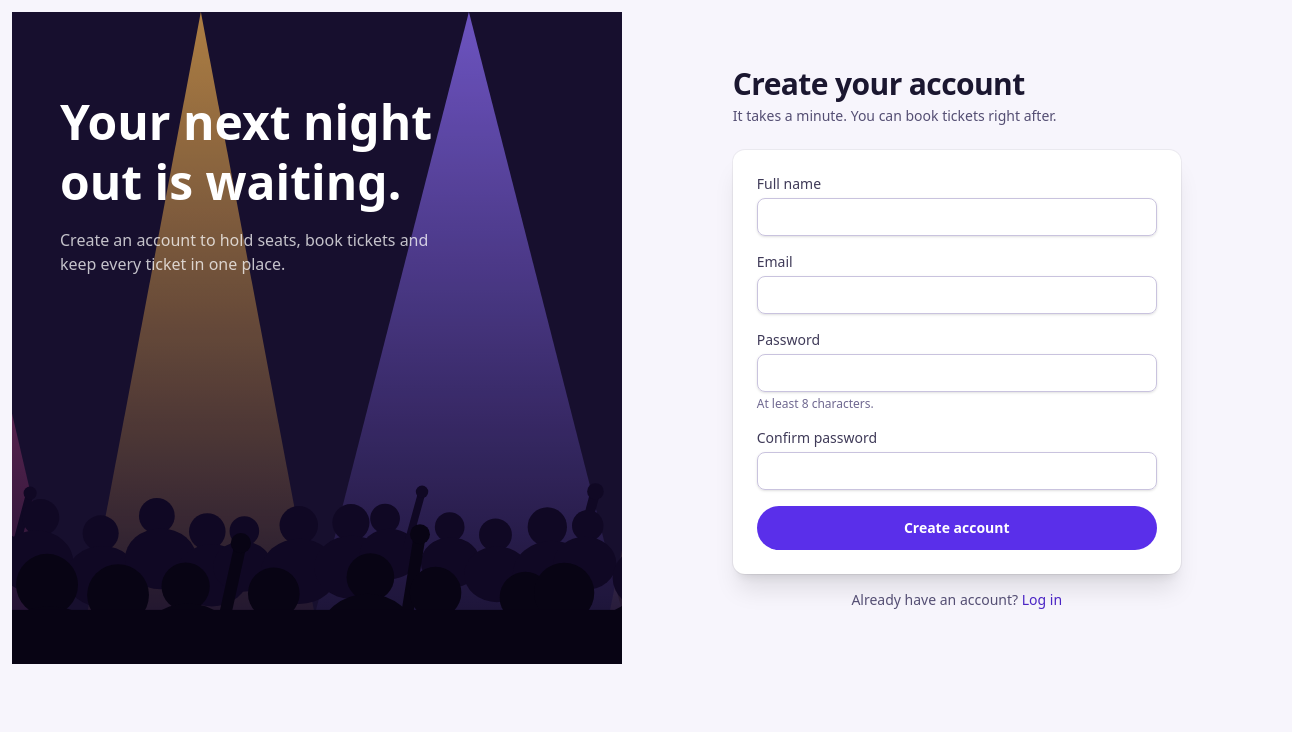
it: RegisterPage › catches passwords that do not match
Type " Ana Rao " into the field labelled "Full name" at (957, 217), box [757,198,1157,236]
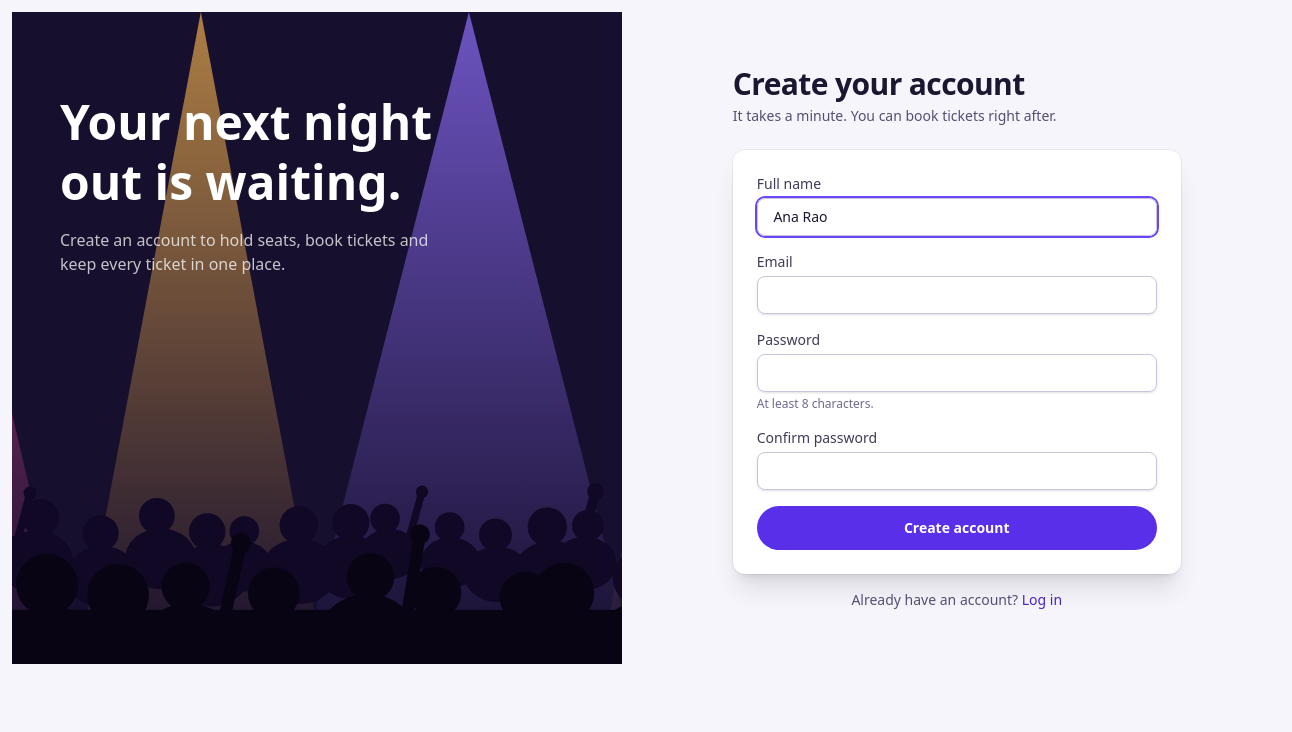
Type " ana@example.com " into the field labelled "Email" at (957, 295), box [757,276,1157,314]
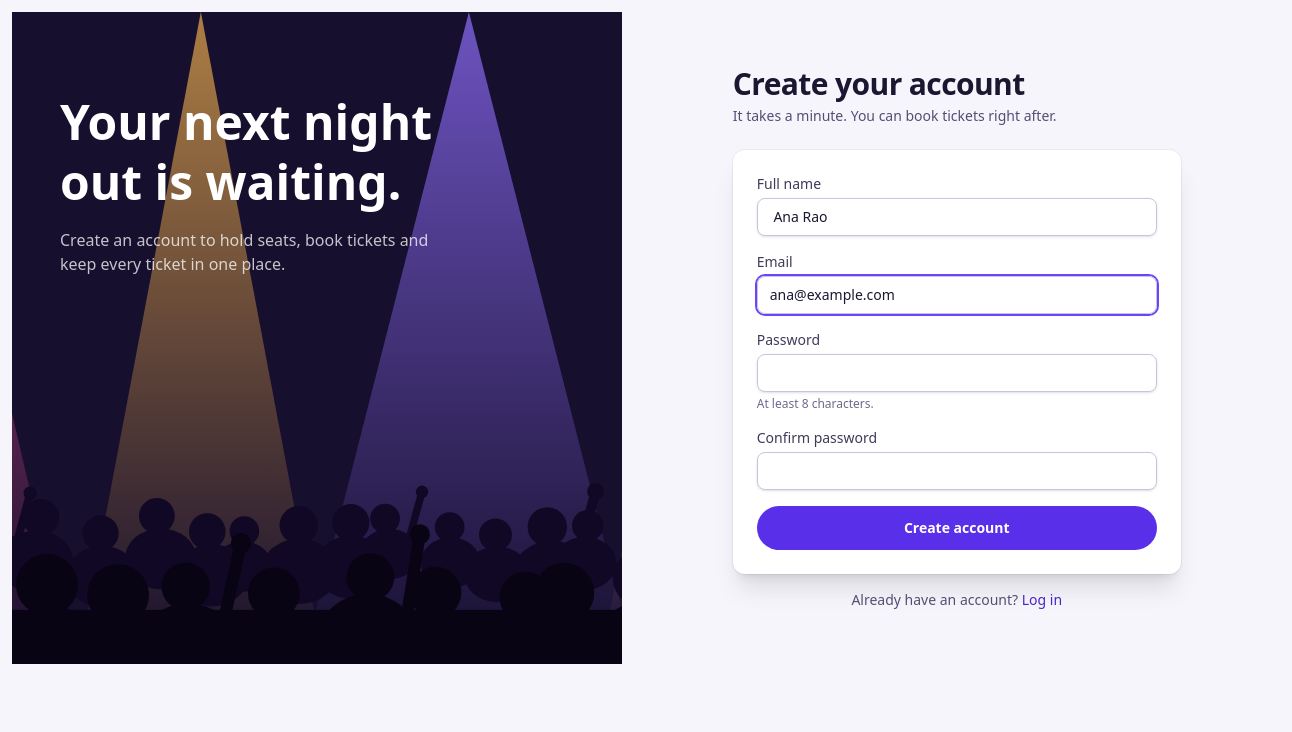
Type "Sup3rSecret!" into the password field labelled "Password" at (957, 373), box [757,354,1157,392]
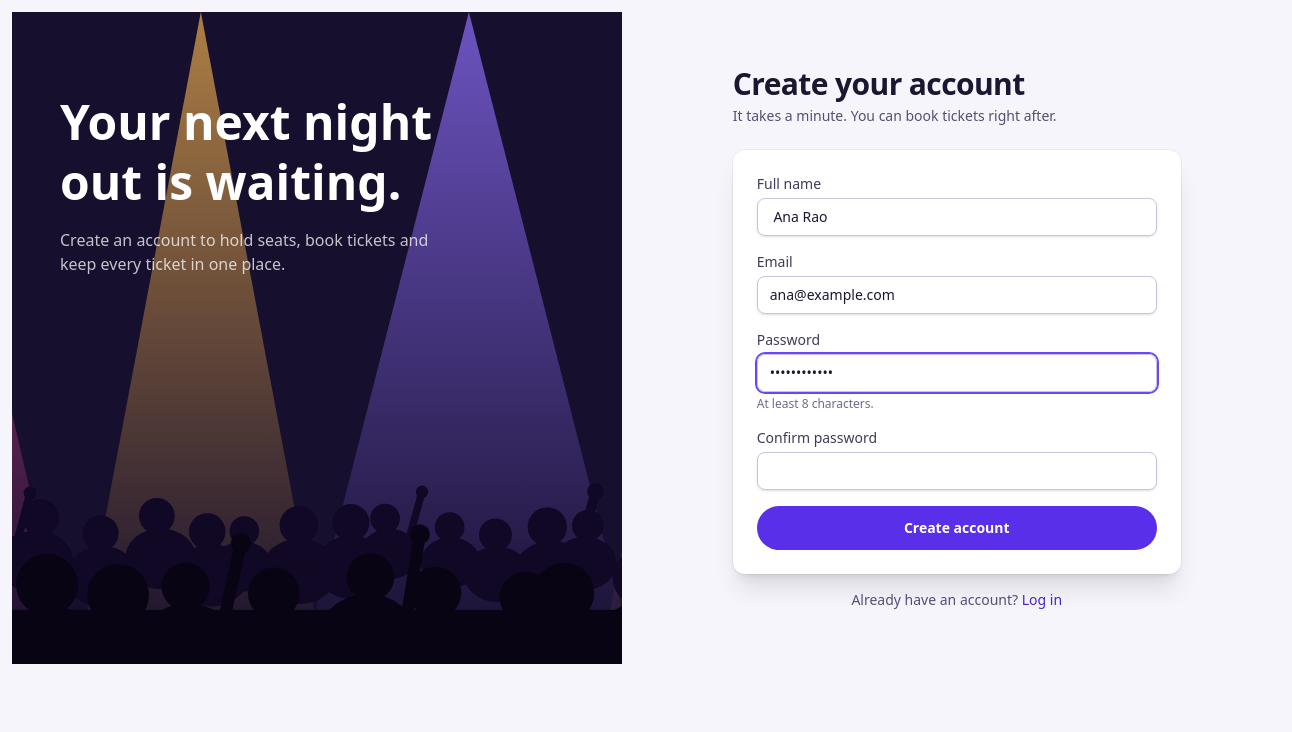
Type "something-else" into the password field labelled "Confirm password" at (957, 471), box [757,452,1157,490]
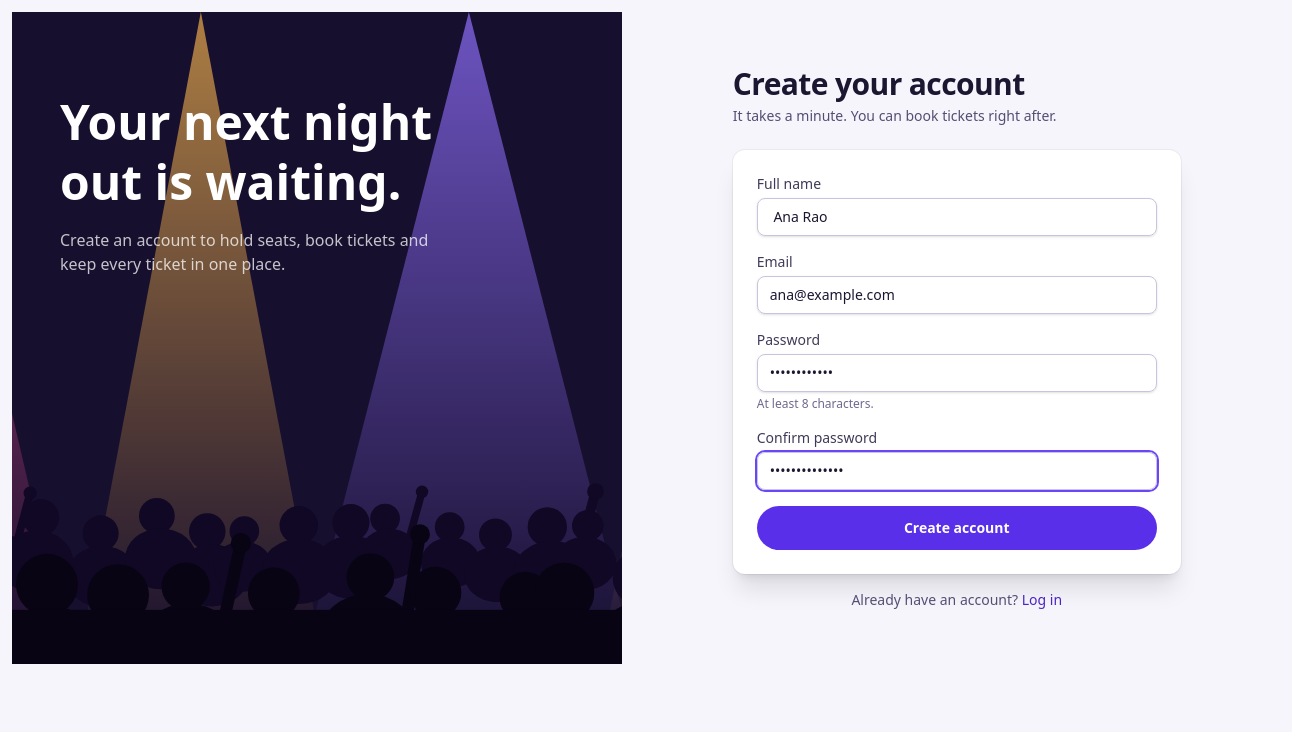
Click the button "Create account" at (957, 528), box [757,506,1157,550]
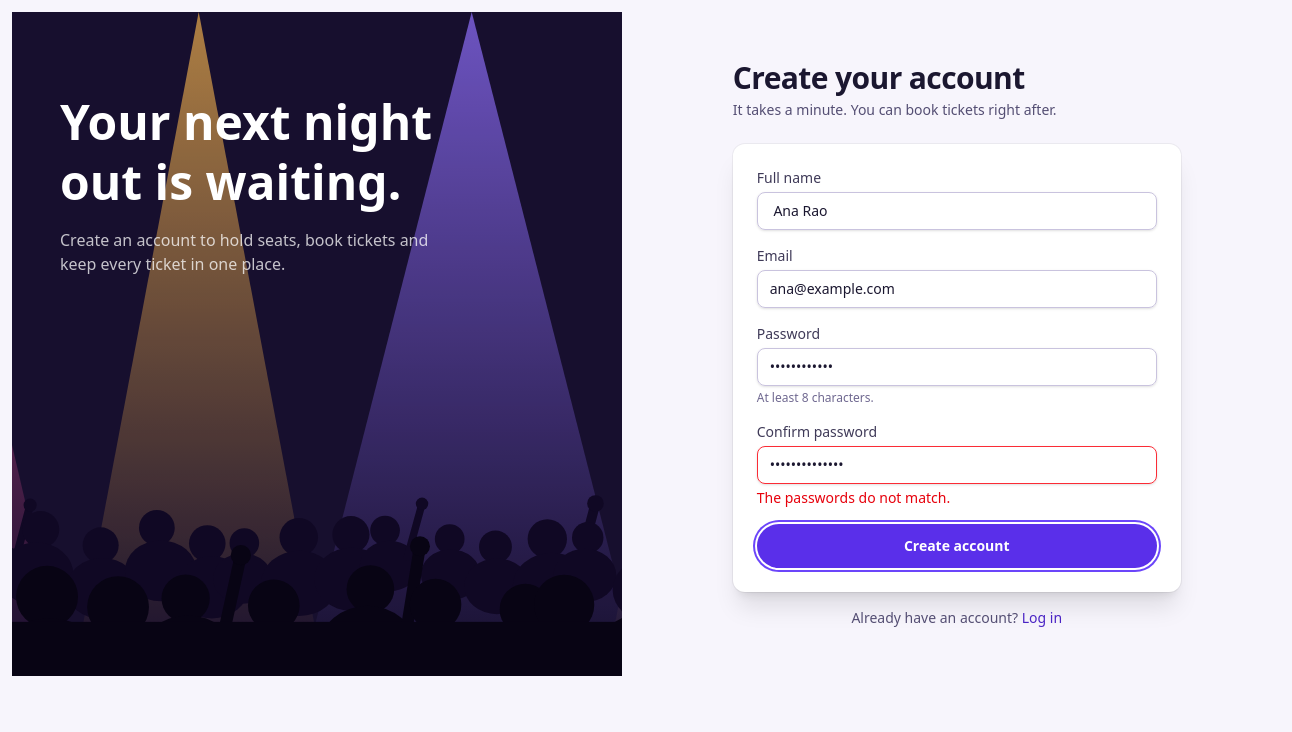
Expected: the text "The passwords do not match." is shown, [757,488,950,507]
